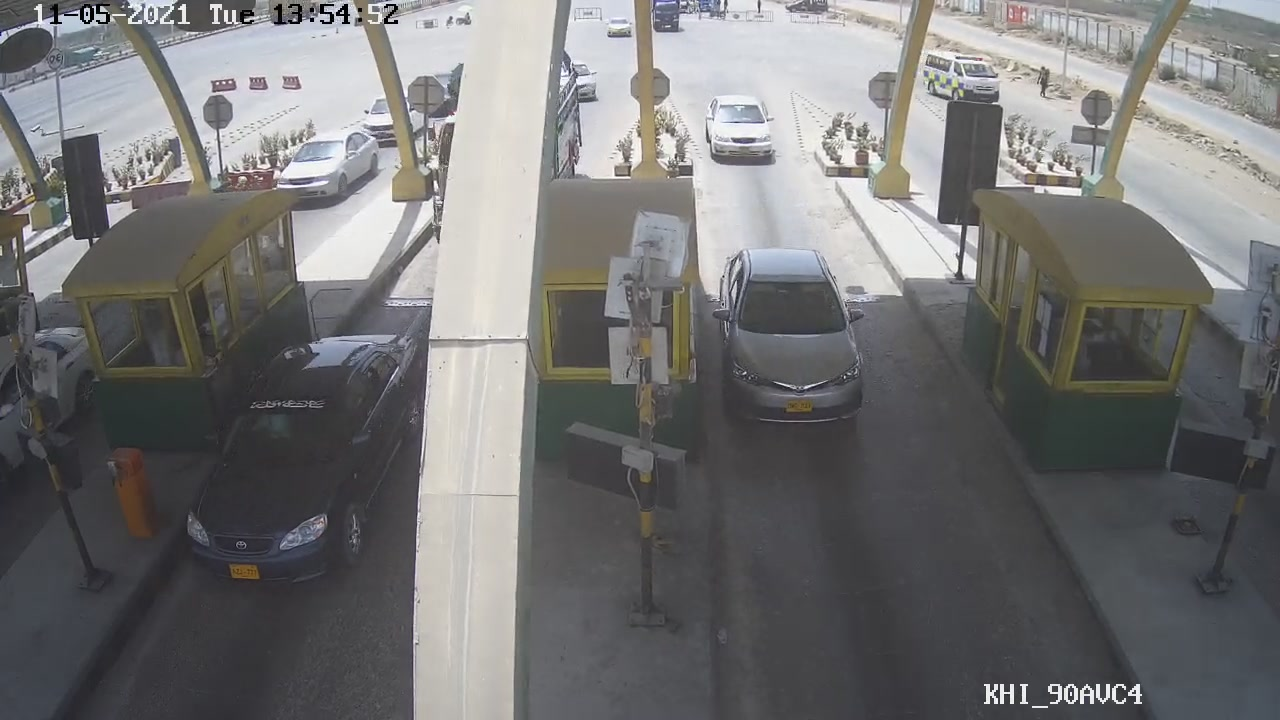F1: (705, 240, 870, 431)
